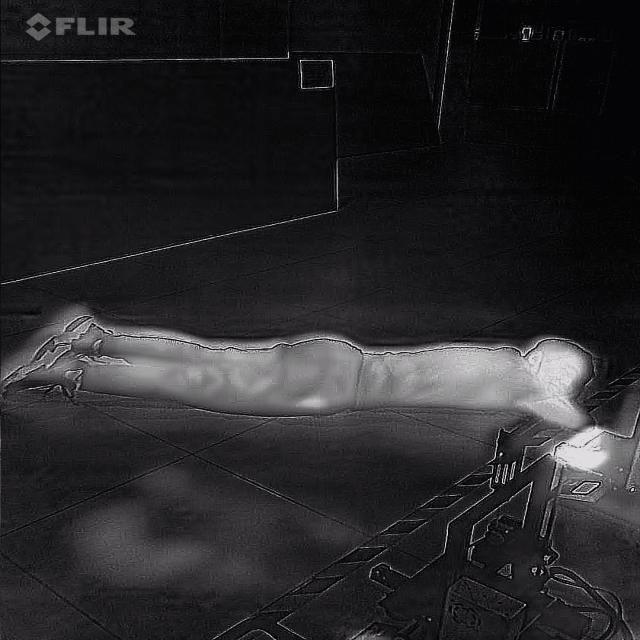Victim: (0, 313, 615, 432)
